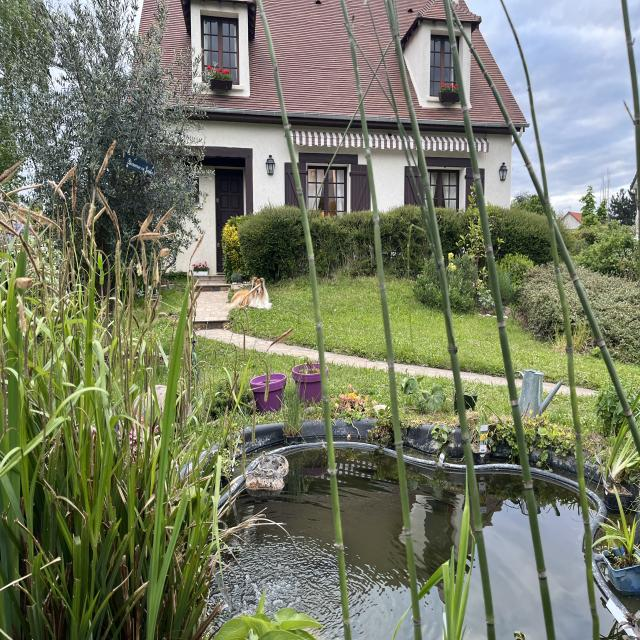Dog: (226, 265, 280, 316)
